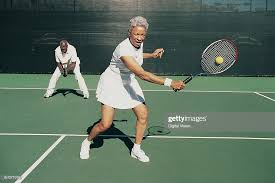tennis_ball: (215, 56, 223, 65)
